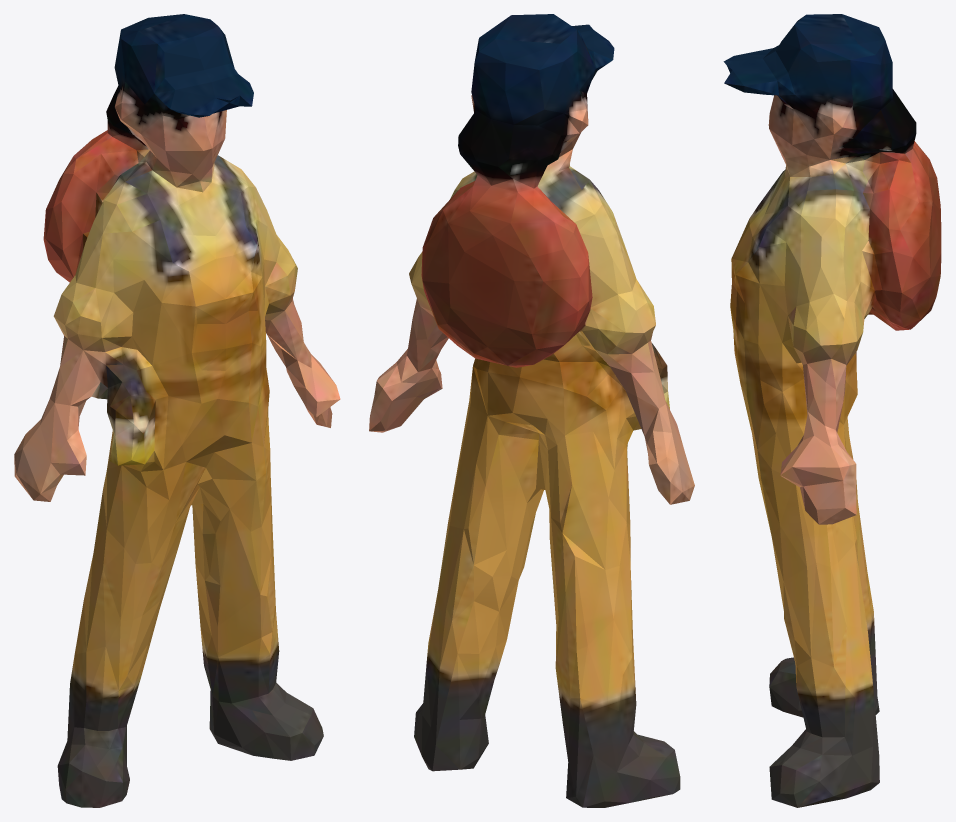
File: habitant-loin.glb
3 renders of one model, left to right at view 1: azimuth 30°, elevation 25°; view 2: azimuth 150°, elevation 25°; view 3: azimuth 270°, elevation 25°, orthographic. The views are drawn at different scales.
Parts seen in each view (by area): view 1: habitant; view 2: habitant; view 3: habitant.
Boxes of the visible parts, x1=… form: habitant: x1=14, y1=14, x2=340, y2=807; habitant: x1=369, y1=14, x2=694, y2=807; habitant: x1=723, y1=14, x2=941, y2=807.
Bounding box in the file's own units: 0.4383 × 1.01 × 0.2742.
Materials: 1 (1 with a texture image).
